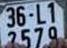1: (46, 1, 56, 23)
3: (5, 5, 15, 27)
5: (19, 27, 32, 47)
6: (15, 5, 26, 26)
7: (32, 26, 43, 47)
9: (46, 24, 59, 47)
L: (35, 3, 46, 23)
